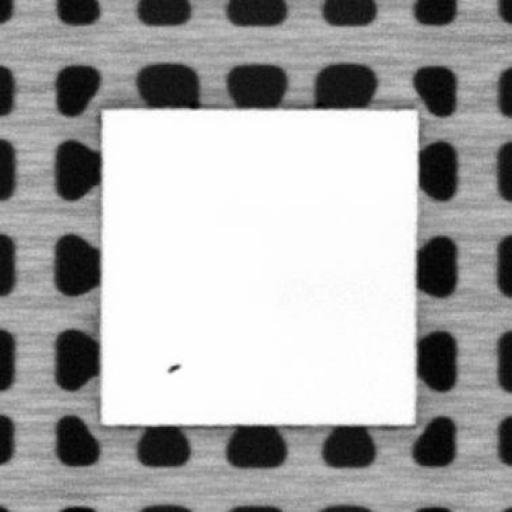DIE_INK: (163, 357, 180, 374)
